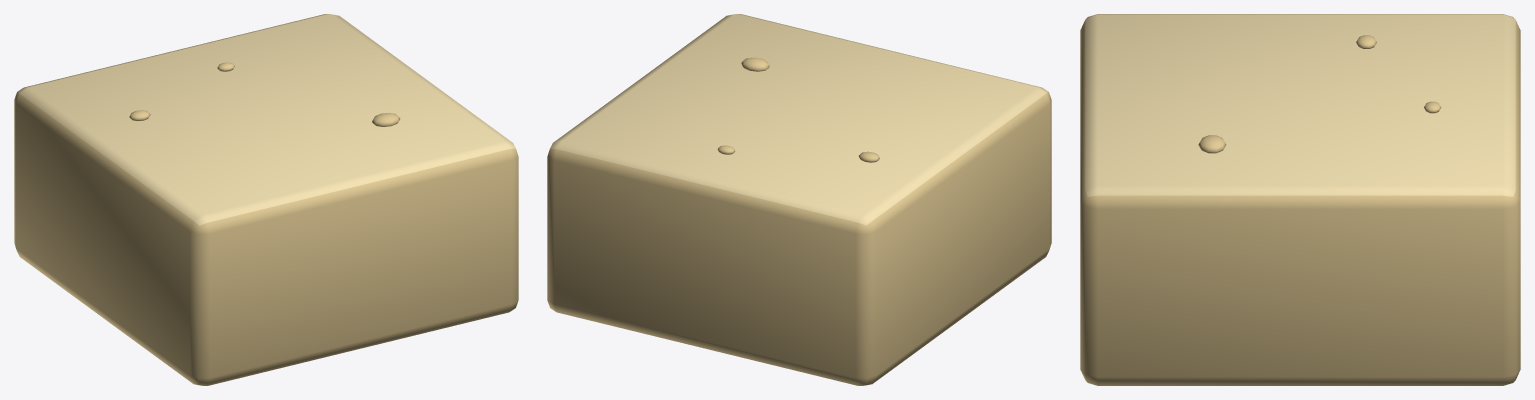
Rendered from tile-sand.glb.
3 views of the same model, side by side, from view 1: azimuth 30°, elevation 25°; view 2: azimuth 150°, elevation 25°; view 3: azimuth 270°, elevation 25° (orthographic). The views are drawn at different scales.
Visible parts, largest first — view 1: tile; view 2: tile; view 3: tile.
Boxes of the visible parts, x1=… form: tile: x1=14, y1=14, x2=518, y2=385; tile: x1=547, y1=14, x2=1051, y2=385; tile: x1=1080, y1=14, x2=1520, y2=385.
Size of the model in its own units: 1 by 0.521 by 1.
